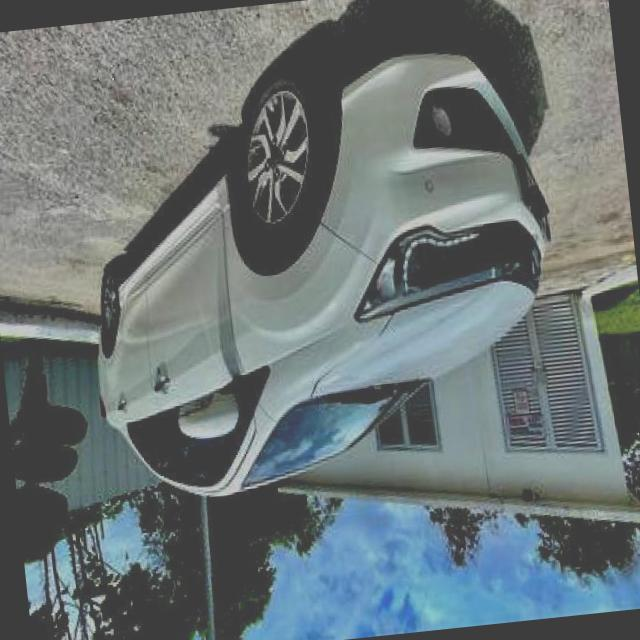PeroduaBezza: (64, 37, 577, 510)
